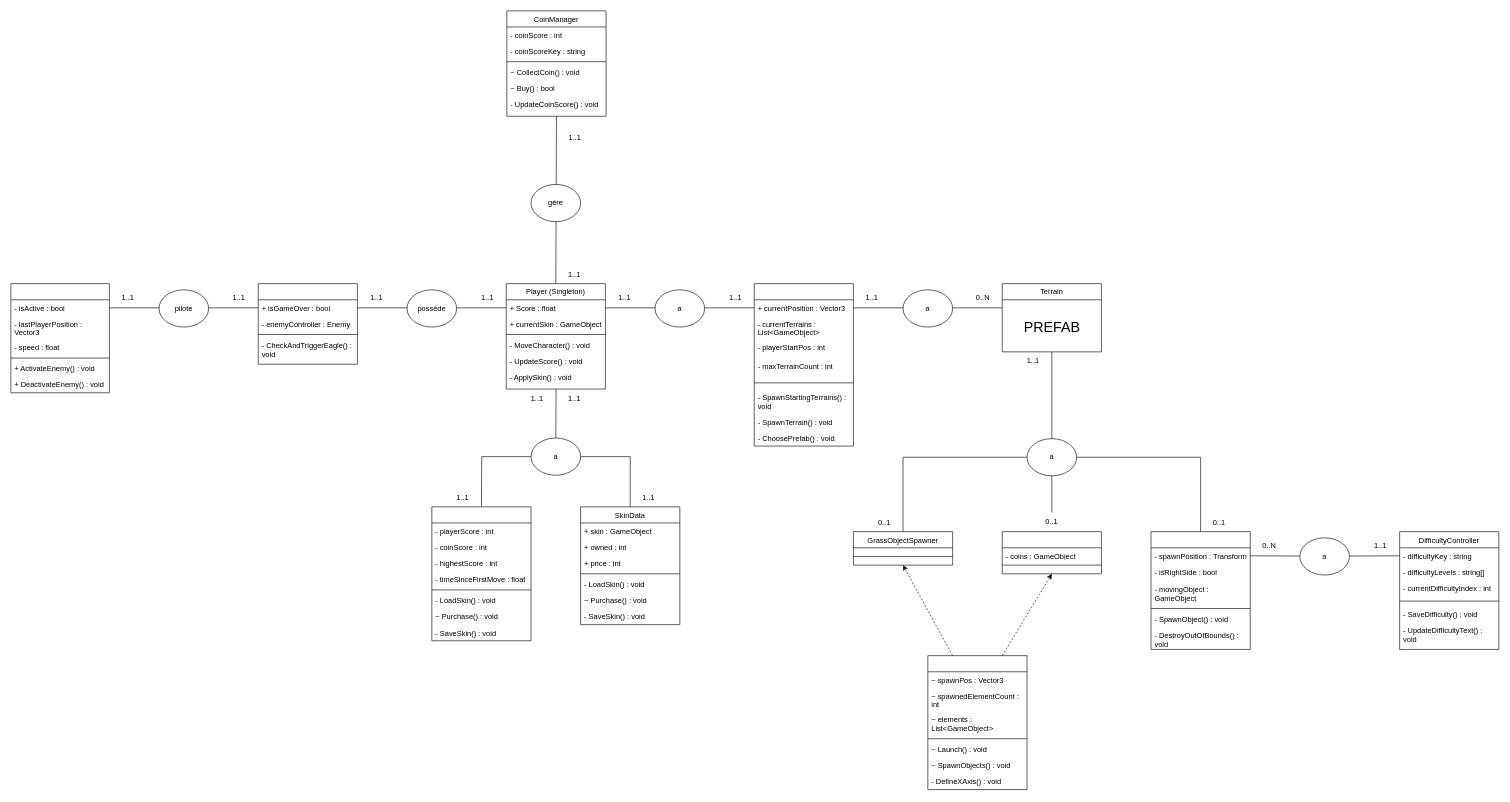
This 1510x802 diagram has some shape labels left out. The box of each missing label's shape, as (x1, y1, x2, y2) in pixels:
CoinSpawner: (1002, 531, 1101, 574)
DisplayManager: (431, 506, 531, 641)
Eagle: (10, 283, 109, 393)
GameManager: (258, 283, 357, 364)
MovingObjectSpawner: (1150, 531, 1250, 649)
ObjectSpawner: (927, 655, 1027, 790)
TerrainGenerator: (754, 283, 853, 446)
